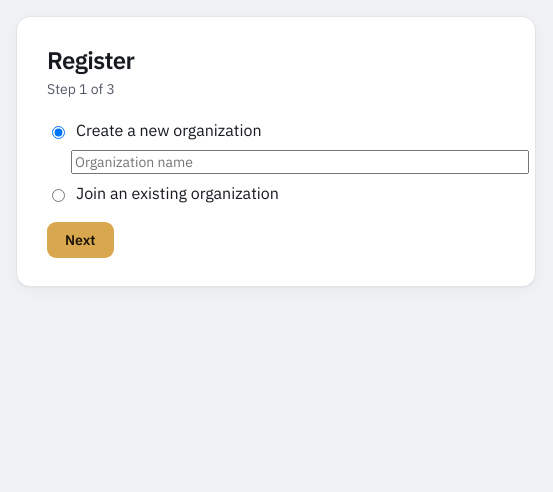
Test case: Register › retrying after a failed createUser reuses the already-created org instead of creating a duplicate
In the field labelled "Organization name": (300, 162) [71,150,529,174], type "Acme"
Click the button "Next": (80, 240) [47,222,114,258]
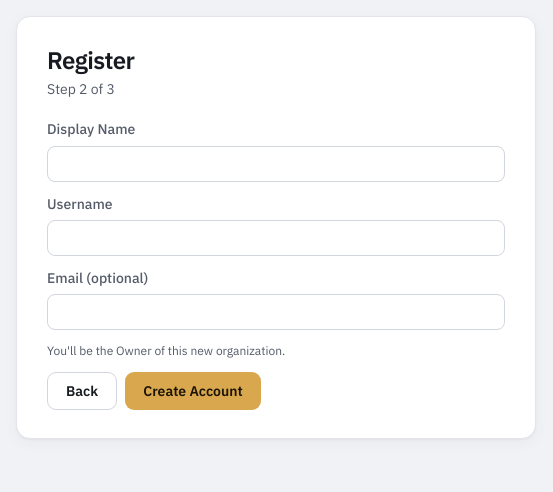
Now the field labelled "Display Name" is shown
In the field labelled "Display Name": (276, 164) [47,146,505,182], type "Seth"
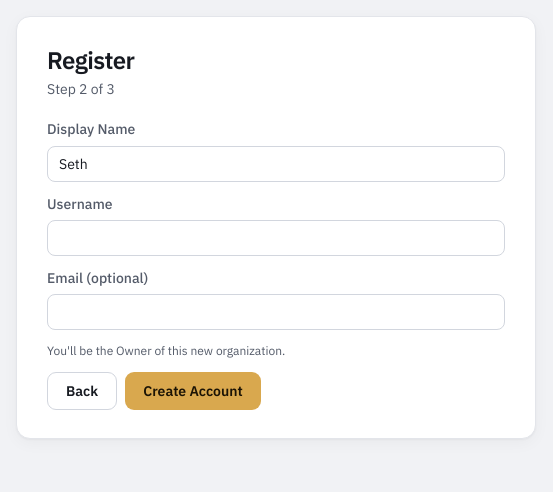
In the field labelled "Username": (276, 238) [47,220,505,256], type "seth"
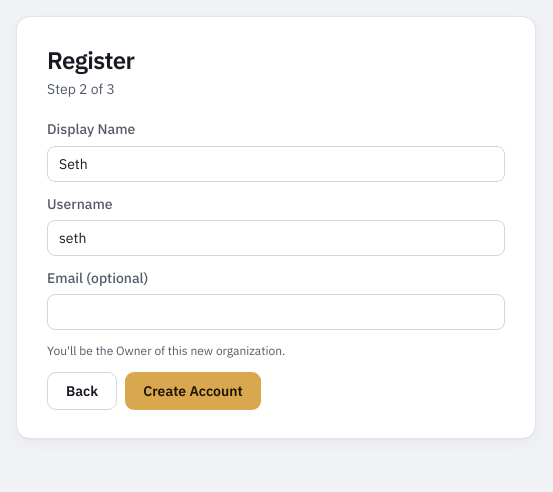
Click the button "Create Account": (193, 391) [125,372,261,410]
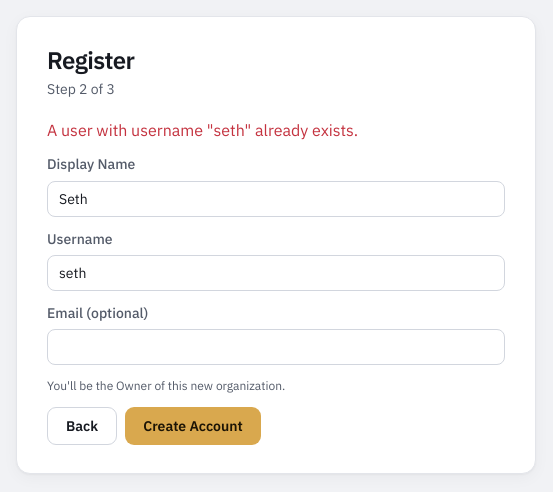
Now the message shows "already exists", box [47,120,358,140]
Replace the text in the field labelled "Username" with "seth2": (276, 273) [47,255,505,291]
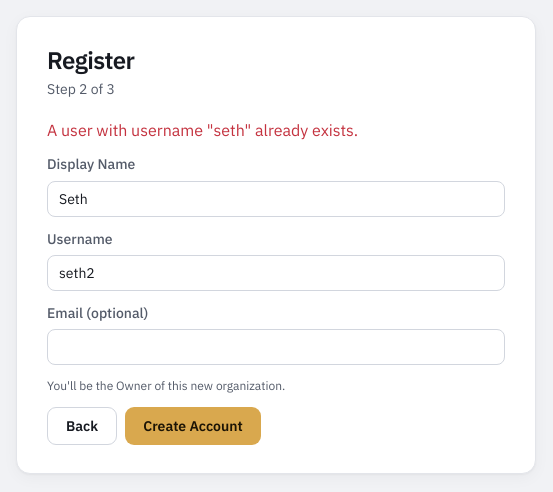
Click the button "Create Account": (193, 426) [125,407,261,445]
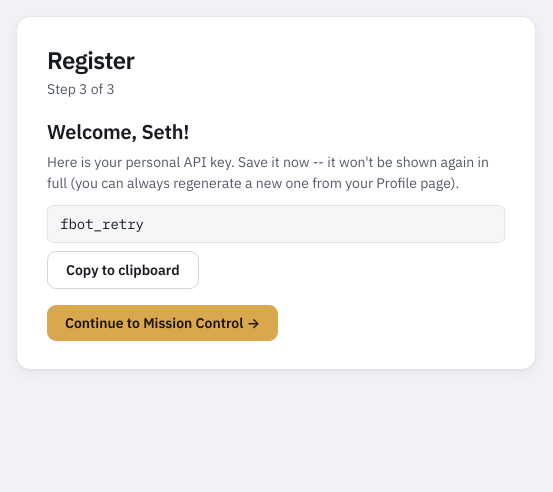
Now the text "fbot_retry" is shown, box [47,205,505,243]
